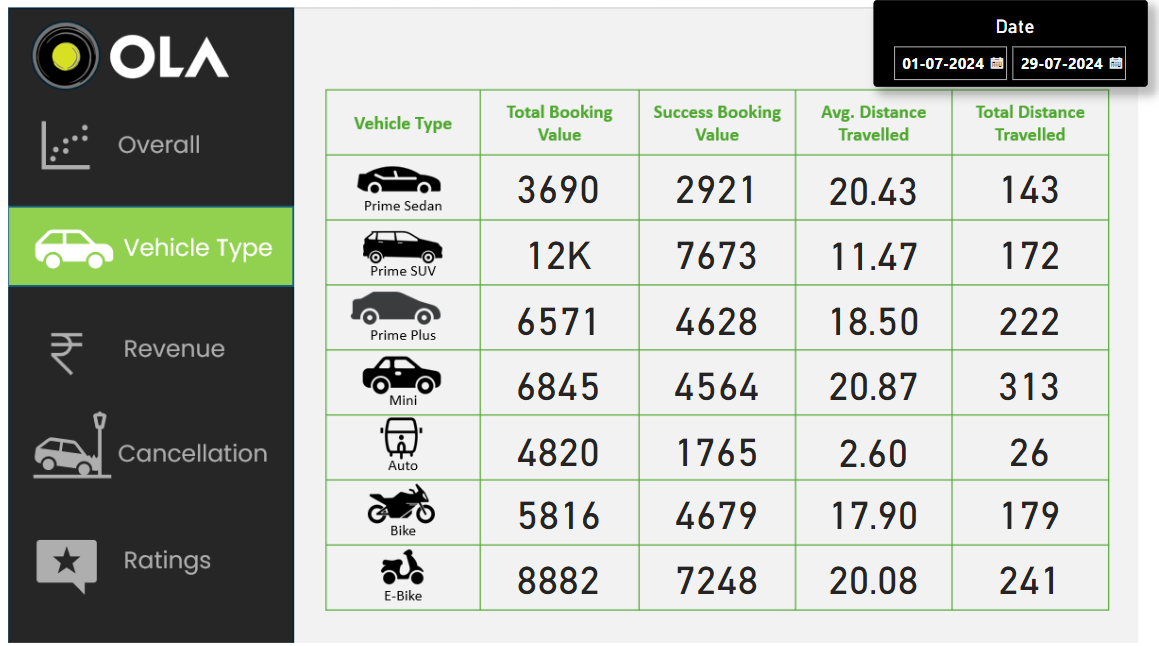

Layout of this report page (visuals, bound fields, positions):
{"tool":"powerbi","page":{"name":"Vehicle","canvas":[1280,720],"ordinal":1},"visuals":[{"type":"card","fields":{"Values":["Sum(ola booking.Booking_Value)"]},"box":[538.8,174.8,170.1,68.3],"z":0},{"type":"card","fields":{"Values":["Sum(ola booking.Booking_Value)"]},"box":[538.8,243.2,170.1,71.5],"z":1000},{"type":"card","fields":{"Values":["Sum(ola booking.Booking_Value)"]},"box":[538.8,314.7,170.1,68.3],"z":2000},{"type":"card","fields":{"Values":["Sum(ola booking.Booking_Value)"]},"box":[538.8,383,170.1,68.3],"z":3000},{"type":"card","fields":{"Values":["Sum(ola booking.Booking_Value)"]},"box":[538.8,451.4,170.1,71.5],"z":4000},{"type":"card","fields":{"Values":["Sum(ola booking.Booking_Value)"]},"box":[538.8,522.9,170.1,63.6],"z":5000},{"type":"card","fields":{"Values":["Sum(ola booking.Booking_Value)"]},"box":[538.8,586.5,170.1,73.1],"z":6000},{"type":"card","fields":{"Values":["Sum(ola booking.Booking_Value)"]},"box":[708.9,174.8,165.3,68.3],"z":7000},{"type":"card","fields":{"Values":["Sum(ola booking.Booking_Value)"]},"box":[708.9,243.2,165.3,71.5],"z":8000},{"type":"card","fields":{"Values":["Sum(ola booking.Booking_Value)"]},"box":[708.9,314.7,165.3,68.3],"z":9000},{"type":"card","fields":{"Values":["Sum(ola booking.Booking_Value)"]},"box":[708.9,383,165.3,68.3],"z":10000},{"type":"card","fields":{"Values":["Sum(ola booking.Booking_Value)"]},"box":[708.9,451.4,165.3,71.5],"z":11000},{"type":"card","fields":{"Values":["Sum(ola booking.Booking_Value)"]},"box":[708.9,522.9,165.3,63.6],"z":12000},{"type":"card","fields":{"Values":["Sum(ola booking.Booking_Value)"]},"box":[708.9,586.5,165.3,73.1],"z":13000},{"type":"card","fields":{"Values":["Avg(ola booking.Ride_Distance)"]},"box":[874.2,179.6,166.9,63.6],"z":14000},{"type":"card","fields":{"Values":["Avg(ola booking.Ride_Distance)"]},"box":[874.2,249.5,166.9,60.4],"z":15000},{"type":"card","fields":{"Values":["Avg(ola booking.Ride_Distance)"]},"box":[874.2,314.7,166.9,68.3],"z":16000},{"type":"card","fields":{"Values":["Avg(ola booking.Ride_Distance)"]},"box":[874.2,383,166.9,68.3],"z":17000},{"type":"card","fields":{"Values":["Avg(ola booking.Ride_Distance)"]},"box":[874.2,454.6,166.9,68.3],"z":18000},{"type":"card","fields":{"Values":["Avg(ola booking.Ride_Distance)"]},"box":[874.2,522.9,166.9,63.6],"z":19000},{"type":"card","fields":{"Values":["Avg(ola booking.Ride_Distance)"]},"box":[874.2,586.5,166.9,73.1],"z":20000},{"type":"card","fields":{"Values":["Sum(ola booking.Ride_Distance)"]},"box":[1041.1,174.8,163.7,68.3],"z":21000},{"type":"card","fields":{"Values":["Sum(ola booking.Ride_Distance)"]},"box":[1041.1,243.2,163.7,71.5],"z":22000},{"type":"card","fields":{"Values":["Sum(ola booking.Ride_Distance)"]},"box":[1041.1,314.7,163.7,68.3],"z":23000},{"type":"card","fields":{"Values":["Sum(ola booking.Ride_Distance)"]},"box":[1041.1,383,163.7,69.9],"z":24000},{"type":"card","fields":{"Values":["Sum(ola booking.Ride_Distance)"]},"box":[1041.1,451.4,163.7,71.5],"z":25000},{"type":"card","fields":{"Values":["Sum(ola booking.Ride_Distance)"]},"box":[1041.1,522.9,163.7,63.6],"z":26000},{"type":"card","fields":{"Values":["Sum(ola booking.Ride_Distance)"]},"box":[1041.1,586.5,163.7,73.1],"z":27000},{"type":"slicer","title":"Date","fields":{"Values":["ola booking.Date"]},"box":[958.4,12.7,290.9,92.2],"z":28000},{"type":"actionButton","box":[41.3,124,300.4,108.1],"z":29000},{"type":"actionButton","box":[41.3,232.1,300.4,82.6],"z":30000},{"type":"actionButton","box":[41.3,314.7,300.4,114.4],"z":31000},{"type":"actionButton","box":[41.3,429.1,300.4,111.3],"z":32000},{"type":"actionButton","box":[41.3,540.4,300.4,108.1],"z":33000}]}

Visuals, with their boxes on the page's 1280x720 design canvas (x1, y1, x2, y2). These are canvas units, not pixel positions in the 1159x646 screenshot, which may show the page scaled, cropped or inside an application window:
card - Sum(ola booking.Booking_Value): [x1=539, y1=175, x2=709, y2=243]
card - Sum(ola booking.Booking_Value): [x1=539, y1=243, x2=709, y2=315]
card - Sum(ola booking.Booking_Value): [x1=539, y1=315, x2=709, y2=383]
card - Sum(ola booking.Booking_Value): [x1=539, y1=383, x2=709, y2=451]
card - Sum(ola booking.Booking_Value): [x1=539, y1=451, x2=709, y2=523]
card - Sum(ola booking.Booking_Value): [x1=539, y1=523, x2=709, y2=586]
card - Sum(ola booking.Booking_Value): [x1=539, y1=586, x2=709, y2=660]
card - Sum(ola booking.Booking_Value): [x1=709, y1=175, x2=874, y2=243]
card - Sum(ola booking.Booking_Value): [x1=709, y1=243, x2=874, y2=315]
card - Sum(ola booking.Booking_Value): [x1=709, y1=315, x2=874, y2=383]
card - Sum(ola booking.Booking_Value): [x1=709, y1=383, x2=874, y2=451]
card - Sum(ola booking.Booking_Value): [x1=709, y1=451, x2=874, y2=523]
card - Sum(ola booking.Booking_Value): [x1=709, y1=523, x2=874, y2=586]
card - Sum(ola booking.Booking_Value): [x1=709, y1=586, x2=874, y2=660]
card - Avg(ola booking.Ride_Distance): [x1=874, y1=180, x2=1041, y2=243]
card - Avg(ola booking.Ride_Distance): [x1=874, y1=250, x2=1041, y2=310]
card - Avg(ola booking.Ride_Distance): [x1=874, y1=315, x2=1041, y2=383]
card - Avg(ola booking.Ride_Distance): [x1=874, y1=383, x2=1041, y2=451]
card - Avg(ola booking.Ride_Distance): [x1=874, y1=455, x2=1041, y2=523]
card - Avg(ola booking.Ride_Distance): [x1=874, y1=523, x2=1041, y2=586]
card - Avg(ola booking.Ride_Distance): [x1=874, y1=586, x2=1041, y2=660]
card - Sum(ola booking.Ride_Distance): [x1=1041, y1=175, x2=1205, y2=243]
card - Sum(ola booking.Ride_Distance): [x1=1041, y1=243, x2=1205, y2=315]
card - Sum(ola booking.Ride_Distance): [x1=1041, y1=315, x2=1205, y2=383]
card - Sum(ola booking.Ride_Distance): [x1=1041, y1=383, x2=1205, y2=453]
card - Sum(ola booking.Ride_Distance): [x1=1041, y1=451, x2=1205, y2=523]
card - Sum(ola booking.Ride_Distance): [x1=1041, y1=523, x2=1205, y2=586]
card - Sum(ola booking.Ride_Distance): [x1=1041, y1=586, x2=1205, y2=660]
"Date" slicer: [x1=958, y1=13, x2=1249, y2=105]
actionButton: [x1=41, y1=124, x2=342, y2=232]
actionButton: [x1=41, y1=232, x2=342, y2=315]
actionButton: [x1=41, y1=315, x2=342, y2=429]
actionButton: [x1=41, y1=429, x2=342, y2=540]
actionButton: [x1=41, y1=540, x2=342, y2=648]
